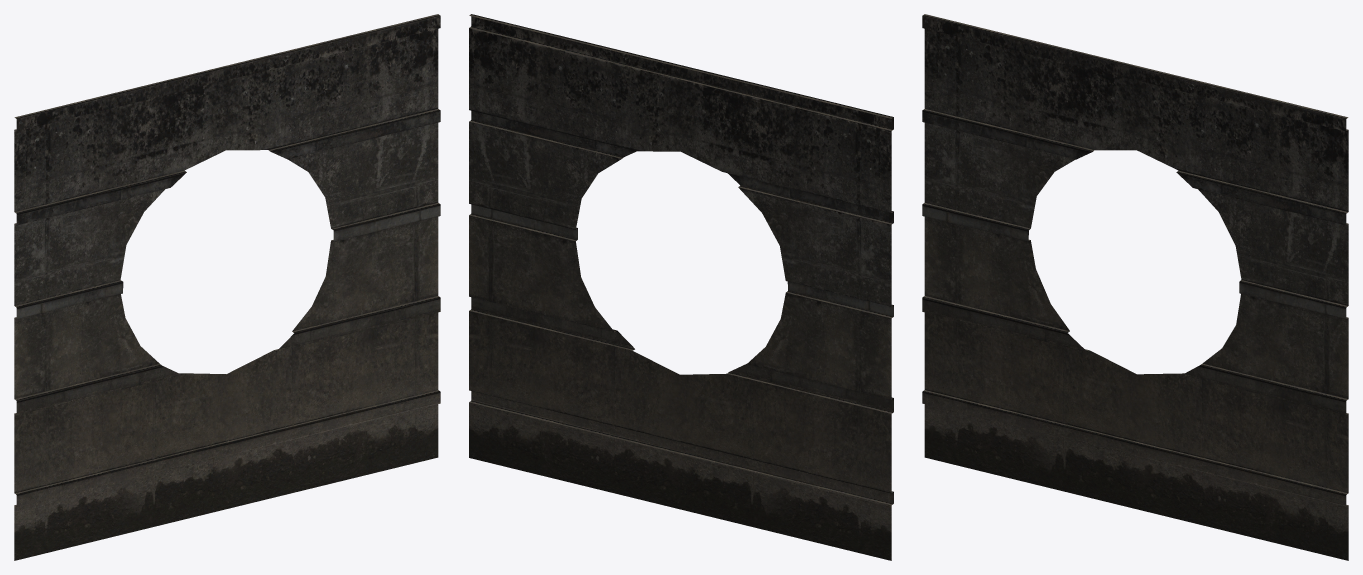
Rendered from tunnels_wall_large_fan.DAE.
3 renders of one model, left to right at view 1: azimuth 30°, elevation 25°; view 2: azimuth 150°, elevation 25°; view 3: azimuth 330°, elevation 25°, orthographic.
Parts seen in each view (by area): view 1: tunnels_wall_large_fan; view 2: tunnels_wall_large_fan; view 3: tunnels_wall_large_fan.
Boxes of the visible parts, <box> form: tunnels_wall_large_fan: <box>14,14,440,560</box>; tunnels_wall_large_fan: <box>469,14,893,560</box>; tunnels_wall_large_fan: <box>922,14,1348,560</box>.
Bounding box in the file's own units: 4 × 0.039 × 4.
